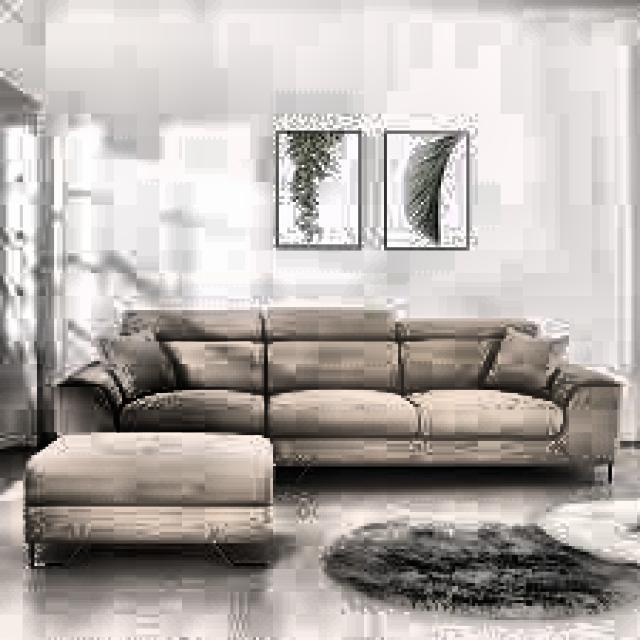sofa: (20, 299, 620, 566)
